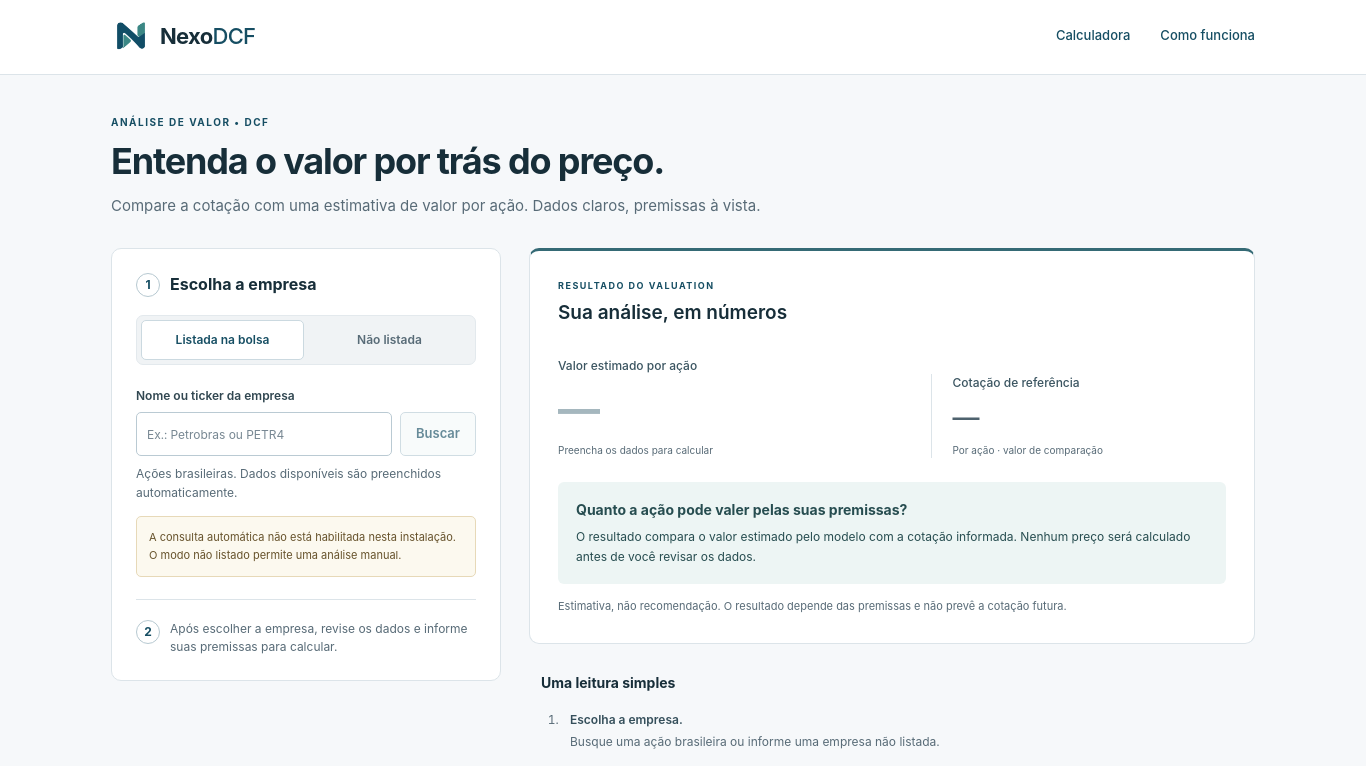
Scenario: fluxos da interface › apresenta indisponibilidade da consulta sem impedir modo manual
Expected: the text "consulta automática não está habilitada" is shown, x1=149 y1=530 x2=456 y2=562
Expected: the button "Buscar" is disabled, x1=400 y1=412 x2=476 y2=456
What coordinates should you click on to do the following:
click the button "Não listada"
I would click on:
 (390, 340)
Its box is x1=308 y1=320 x2=471 y2=360.
(page scrolled)
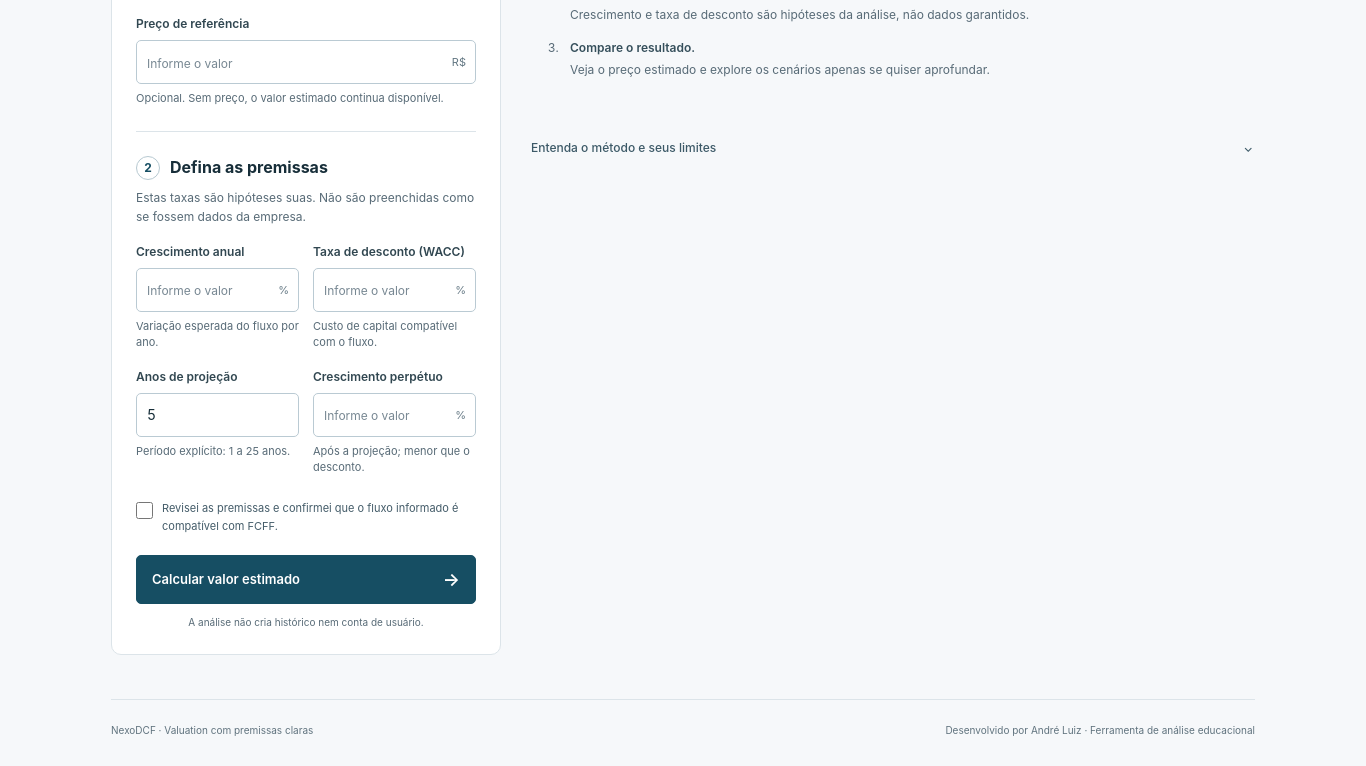
Result: the button "Calcular valor estimado →" is enabled at x1=136 y1=555 x2=476 y2=604
